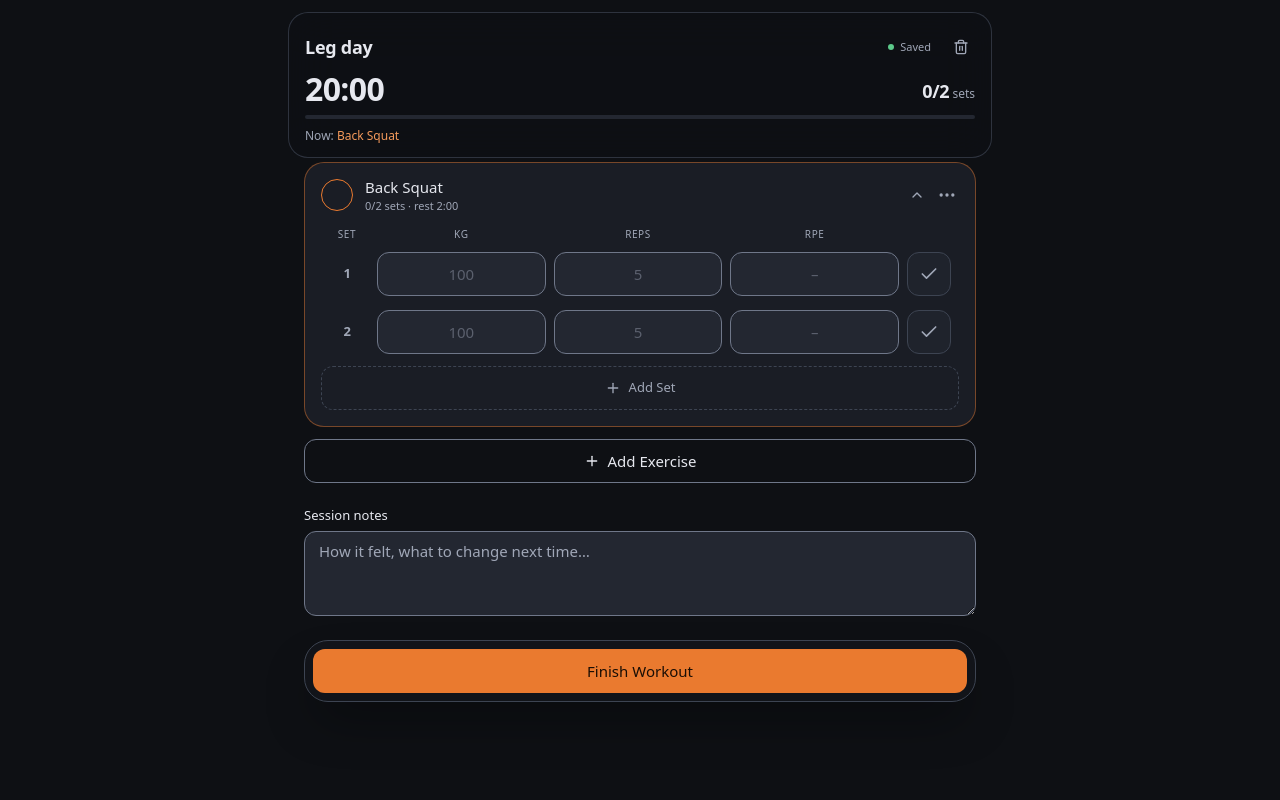
Scenario: SessionPage › logs a checked set with targets filled, then finishes into the summary
The width and height of the screenshot is (1280, 800).
Click the button named "Complete Back Squat set 1" at point(929, 274), box top-left (907, 252), bottom-right (951, 296)
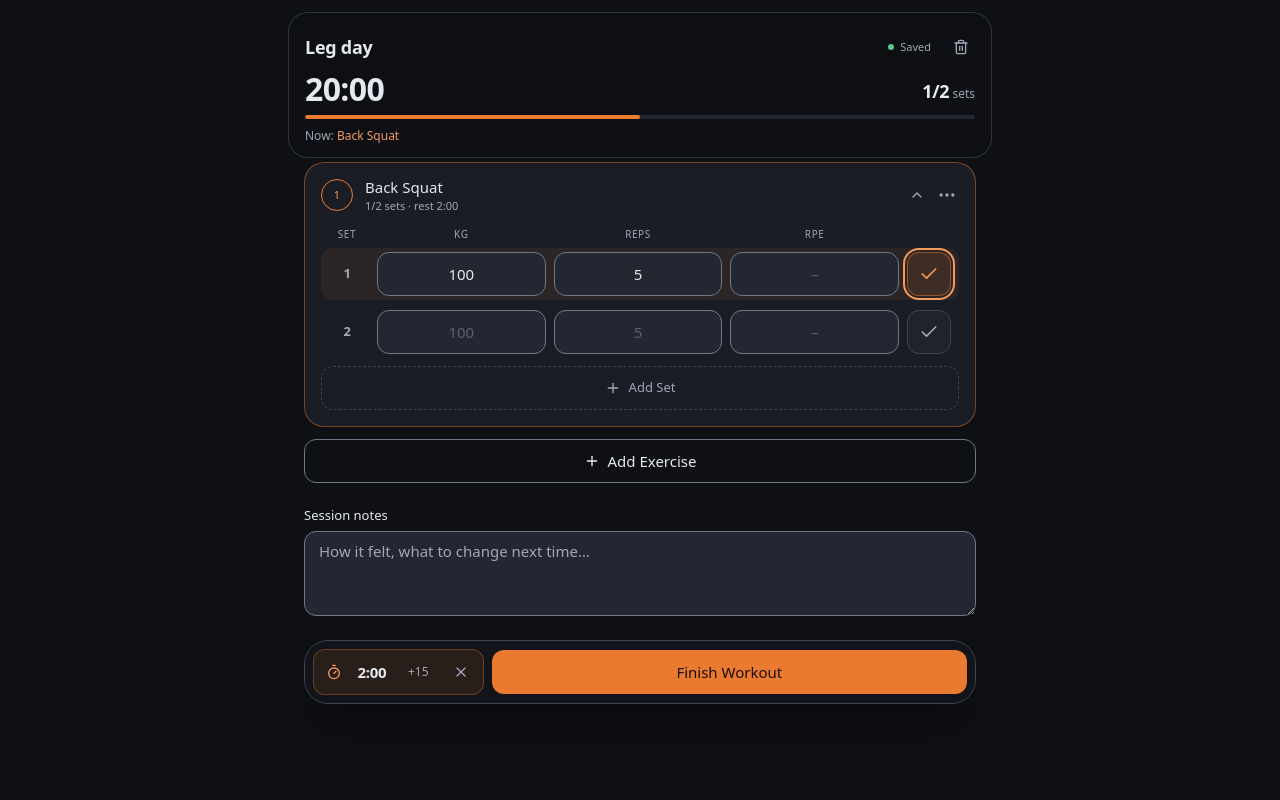
Check: the field named "Back Squat set 1 kg" holds "100", box top-left (377, 252), bottom-right (546, 296)
Check: the text "1/2" is shown, box top-left (922, 79), bottom-right (949, 103)
Check: the text named "Rest timer" is shown, box top-left (358, 662), bottom-right (386, 682)
Click the button "Finish Workout" at point(729, 672), box top-left (492, 650), bottom-right (967, 694)
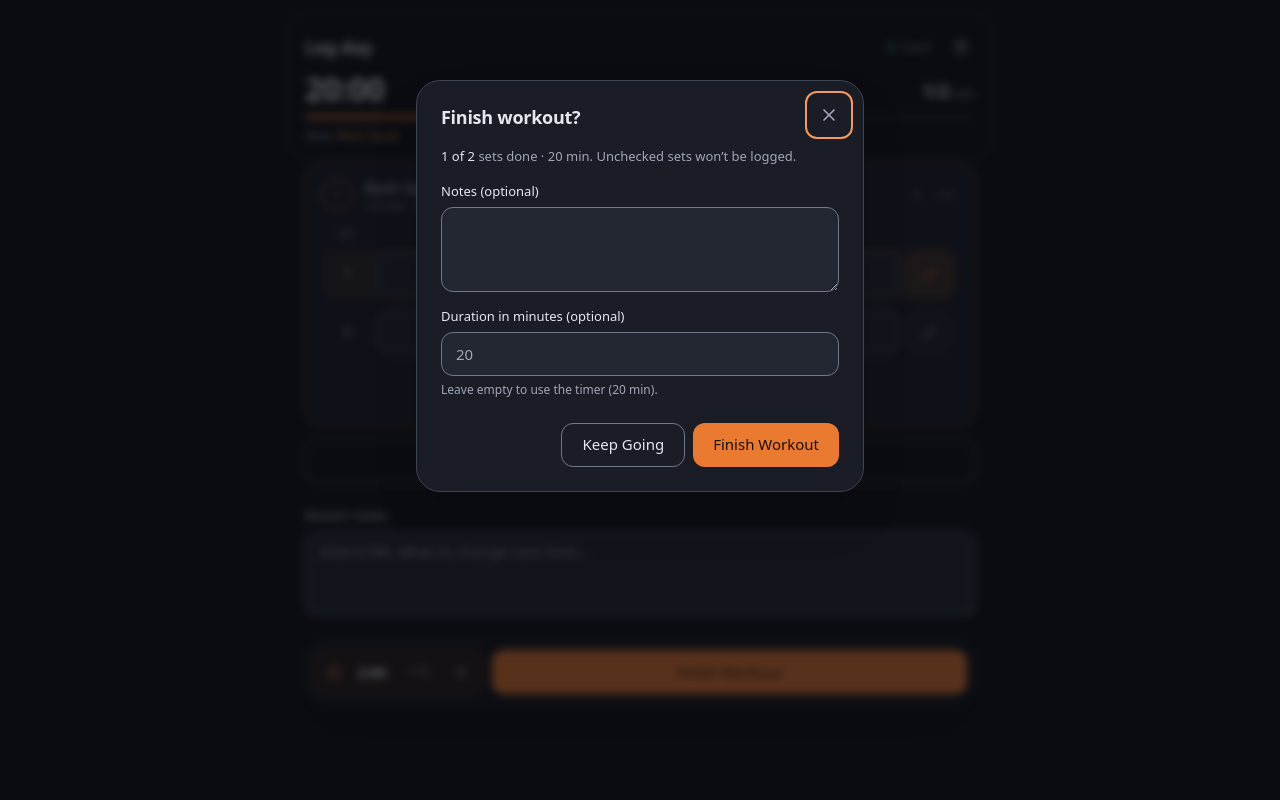
Click the button "Finish Workout" at point(766, 445), box top-left (693, 423), bottom-right (839, 467)
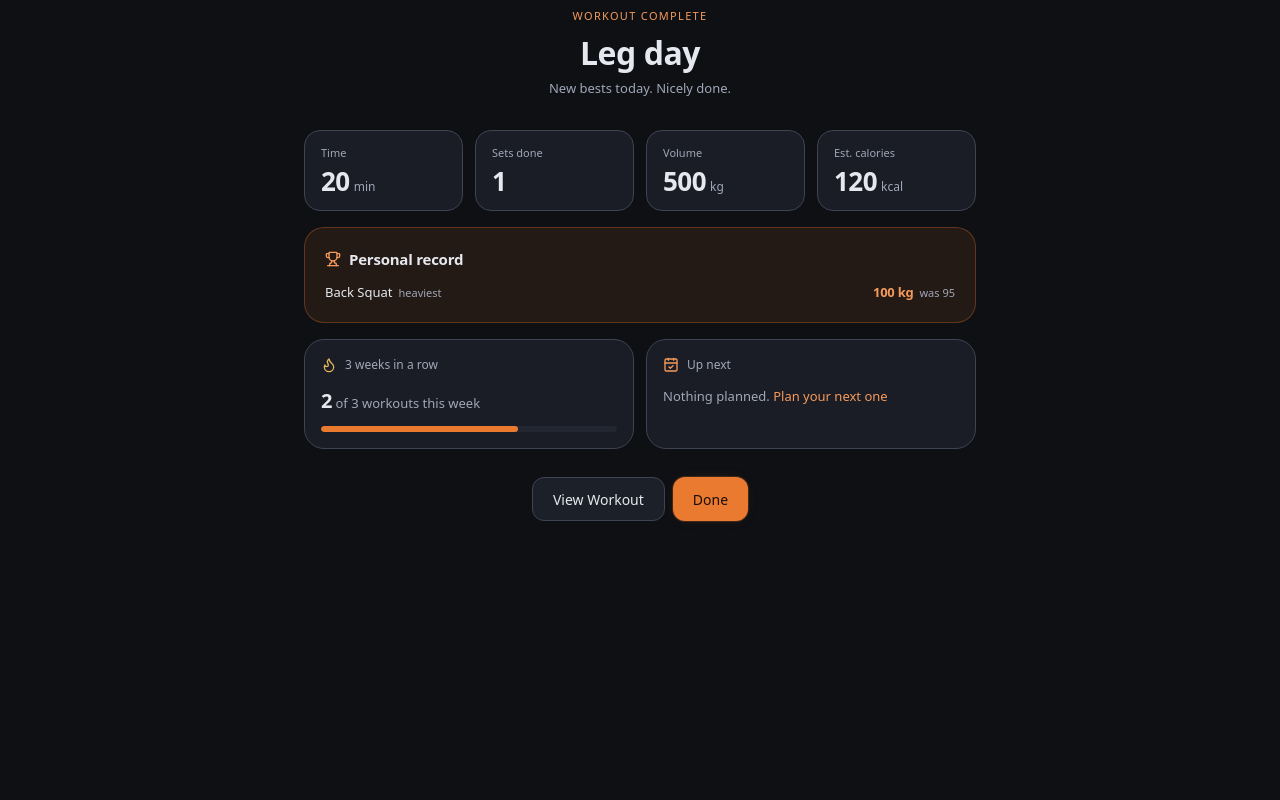
Check: the heading "Leg day" is shown, box top-left (580, 30), bottom-right (700, 74)
Check: the text "Workout complete" is shown, box top-left (572, 8), bottom-right (707, 23)
Check: the heading "Personal record" is shown, box top-left (325, 249), bottom-right (463, 269)
